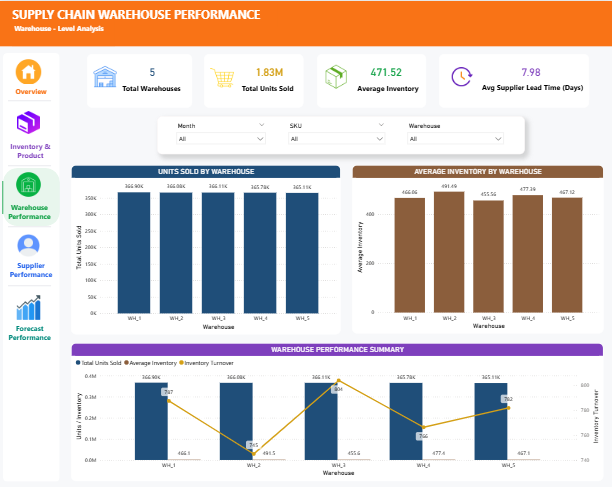

The dashboard page shown, as its layout file describes it:
{"tool":"powerbi","page":{"name":"Warehouse Performance","canvas":[1400,1115],"ordinal":3},"visuals":[{"type":"shape","box":[0,0,1400,103.1],"z":0},{"type":"textbox","box":[28.3,7.5,606.6,51.9],"z":1000},{"type":"textbox","box":[31.6,45.2,231.8,57.2],"z":2000},{"type":"shape","box":[10.6,118.2,128.8,974.3],"z":3000},{"type":"image","box":[27.7,126.2,84.6,67.7],"z":4000},{"type":"textbox","box":[20,187.7,109.2,32.3],"z":5000},{"type":"shape","box":[23.1,210.8,98.5,30.8],"z":6000},{"type":"image","box":[27.7,243.1,83.1,66.2],"z":7000},{"type":"textbox","box":[16.9,313.8,115.4,60],"z":8000},{"type":"shape","box":[23.1,360,98.5,30.8],"z":9000},{"type":"image","box":[27.7,384.6,83.1,66.2],"z":10000},{"type":"textbox","box":[13.8,452.3,115.4,64.6],"z":11000},{"type":"shape","box":[23.1,498.5,98.5,30.8],"z":12000},{"type":"image","box":[27.7,523.1,83.1,66.2],"z":13000},{"type":"textbox","box":[15.4,584.6,118.5,61.5],"z":14000},{"type":"shape","box":[23.1,632.3,98.5,30.8],"z":15000},{"type":"image","box":[27,663.1,83.1,66.2],"z":16000},{"type":"shape","box":[201.6,119.4,238.8,122.5],"z":17000},{"type":"card","fields":{"Values":["FactInventory.Total Warehouses"]},"box":[294.6,138,110.1,43.4],"z":18000},{"type":"textbox","box":[271.3,181.4,156.6,38.8],"z":19000},{"type":"image","box":[210.9,134.9,63.6,76],"z":20000},{"type":"shape","box":[468.2,119.4,226.4,122.5],"z":21000},{"type":"shape","box":[724,119.4,248.1,122.5],"z":22000},{"type":"shape","box":[1003.1,119.4,341.1,122.5],"z":23000},{"type":"card","fields":{"Values":["FactInventory.Total Units Sold"]},"box":[561.2,138,110.1,43.4],"z":24000},{"type":"textbox","box":[544.2,181.4,139.5,38.8],"z":25000},{"type":"image","box":[477.5,136.4,63.6,76],"z":26000},{"type":"card","fields":{"Values":["FactInventory.Average Inventory"]},"box":[826.4,138,110.1,43.4],"z":27000},{"type":"textbox","box":[802.3,181.6,168.2,38.4],"z":28000},{"type":"image","box":[736.4,133.3,63.6,76],"z":29000},{"type":"card","fields":{"Values":["FactInventory.Average Supplier Lead Time"]},"box":[1156.6,138,108.5,43.4],"z":30000},{"type":"textbox","box":[1089.9,179.8,252.7,45],"z":31000},{"type":"image","box":[1021.7,133.3,63.6,76],"z":32000},{"type":"shape","box":[361.2,260.5,835.7,86.8],"z":33000},{"type":"slicer","fields":{"Values":["DimDate.MonthName"]},"box":[395.3,269.8,223.3,68.2],"z":34000},{"type":"slicer","fields":{"Values":["DimProduct.SKU_ID"]},"box":[649.6,269.8,240.3,68.2],"z":35000},{"type":"slicer","fields":{"Values":["DimWarehouse.Warehouse_ID"]},"box":[920.9,269.8,238.8,68.2],"z":36000},{"type":"clusteredColumnChart","title":"UNITS SOLD BY WAREHOUSE","fields":{"Category":["DimWarehouse.Warehouse_ID"],"Y":["FactInventory.Total Units Sold"]},"box":[166.2,371.9,613,385.3],"z":37000},{"type":"clusteredColumnChart","title":"AVERAGE INVENTORY BY WAREHOUSE","fields":{"Category":["DimWarehouse.Warehouse_ID"],"Y":["FactInventory.Average Inventory"]},"box":[804.3,373.8,571.7,383.4],"z":38000},{"type":"lineClusteredColumnComboChart","title":"WAREHOUSE PERFORMANCE SUMMARY","fields":{"Category":["DimWarehouse.Warehouse_ID"],"Y":["FactInventory.Total Units Sold","FactInventory.Average Inventory"],"Y2":["FactInventory.Inventory Turnover"]},"box":[166.2,778.3,1209.7,314.2],"z":39000},{"type":"textbox","box":[13.8,726.2,116.9,58.5],"z":40000},{"type":"shape","box":[10.7,378.6,129.3,132],"z":41000},{"type":"shape","box":[2.4,408.8,17.1,74.7],"z":42000}]}

Visuals, with their boxes on the page's 1400x1115 design canvas (x1, y1, x2, y2). These are canvas units, not pixel positions in the 612x487 screenshot, which may show the page scaled, cropped or inside an application window:
shape: box(0, 0, 1400, 103)
textbox: box(28, 8, 635, 59)
textbox: box(32, 45, 263, 102)
shape: box(11, 118, 139, 1092)
image: box(28, 126, 112, 194)
textbox: box(20, 188, 129, 220)
shape: box(23, 211, 122, 242)
image: box(28, 243, 111, 309)
textbox: box(17, 314, 132, 374)
shape: box(23, 360, 122, 391)
image: box(28, 385, 111, 451)
textbox: box(14, 452, 129, 517)
shape: box(23, 498, 122, 529)
image: box(28, 523, 111, 589)
textbox: box(15, 585, 134, 646)
shape: box(23, 632, 122, 663)
image: box(27, 663, 110, 729)
shape: box(202, 119, 440, 242)
card - FactInventory.Total Warehouses: box(295, 138, 405, 181)
textbox: box(271, 181, 428, 220)
image: box(211, 135, 274, 211)
shape: box(468, 119, 695, 242)
shape: box(724, 119, 972, 242)
shape: box(1003, 119, 1344, 242)
card - FactInventory.Total Units Sold: box(561, 138, 671, 181)
textbox: box(544, 181, 684, 220)
image: box(478, 136, 541, 212)
card - FactInventory.Average Inventory: box(826, 138, 936, 181)
textbox: box(802, 182, 970, 220)
image: box(736, 133, 800, 209)
card - FactInventory.Average Supplier Lead Time: box(1157, 138, 1265, 181)
textbox: box(1090, 180, 1343, 225)
image: box(1022, 133, 1085, 209)
shape: box(361, 260, 1197, 347)
slicer - DimDate.MonthName: box(395, 270, 619, 338)
slicer - DimProduct.SKU_ID: box(650, 270, 890, 338)
slicer - DimWarehouse.Warehouse_ID: box(921, 270, 1160, 338)
"UNITS SOLD BY WAREHOUSE" clusteredColumnChart: box(166, 372, 779, 757)
"AVERAGE INVENTORY BY WAREHOUSE" clusteredColumnChart: box(804, 374, 1376, 757)
"WAREHOUSE PERFORMANCE SUMMARY" lineClusteredColumnComboChart: box(166, 778, 1376, 1092)
textbox: box(14, 726, 131, 785)
shape: box(11, 379, 140, 511)
shape: box(2, 409, 20, 484)
